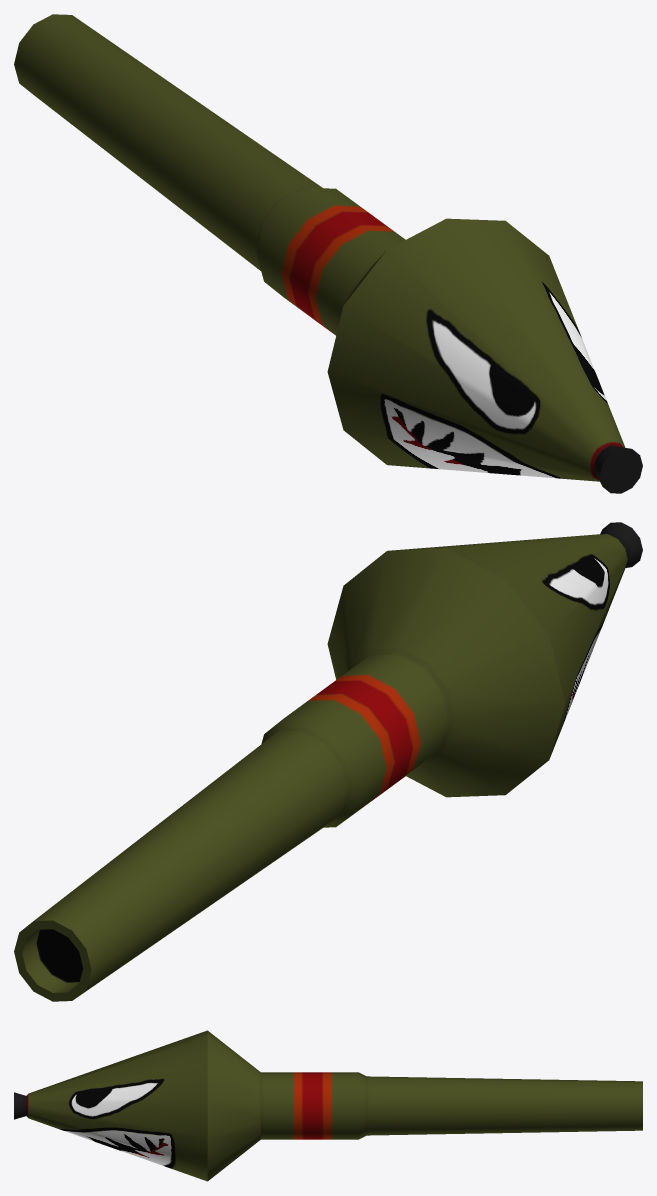
The model's file is missile.fbx.
3 renders of one model, top to bottom at view 1: azimuth 30°, elevation 25°; view 2: azimuth 150°, elevation 25°; view 3: azimuth 270°, elevation 25°, orthographic. The views are drawn at different scales.
Parts seen in each view (by area): view 1: Missile; view 2: Missile; view 3: Missile.
Part boxes in pixels (box(x1,y1,x2,y2)): Missile: box(14, 14, 642, 493); Missile: box(14, 522, 642, 1001); Missile: box(14, 1030, 642, 1181).
Size of the model in its own units: 1.42 by 5.88 by 1.42.
